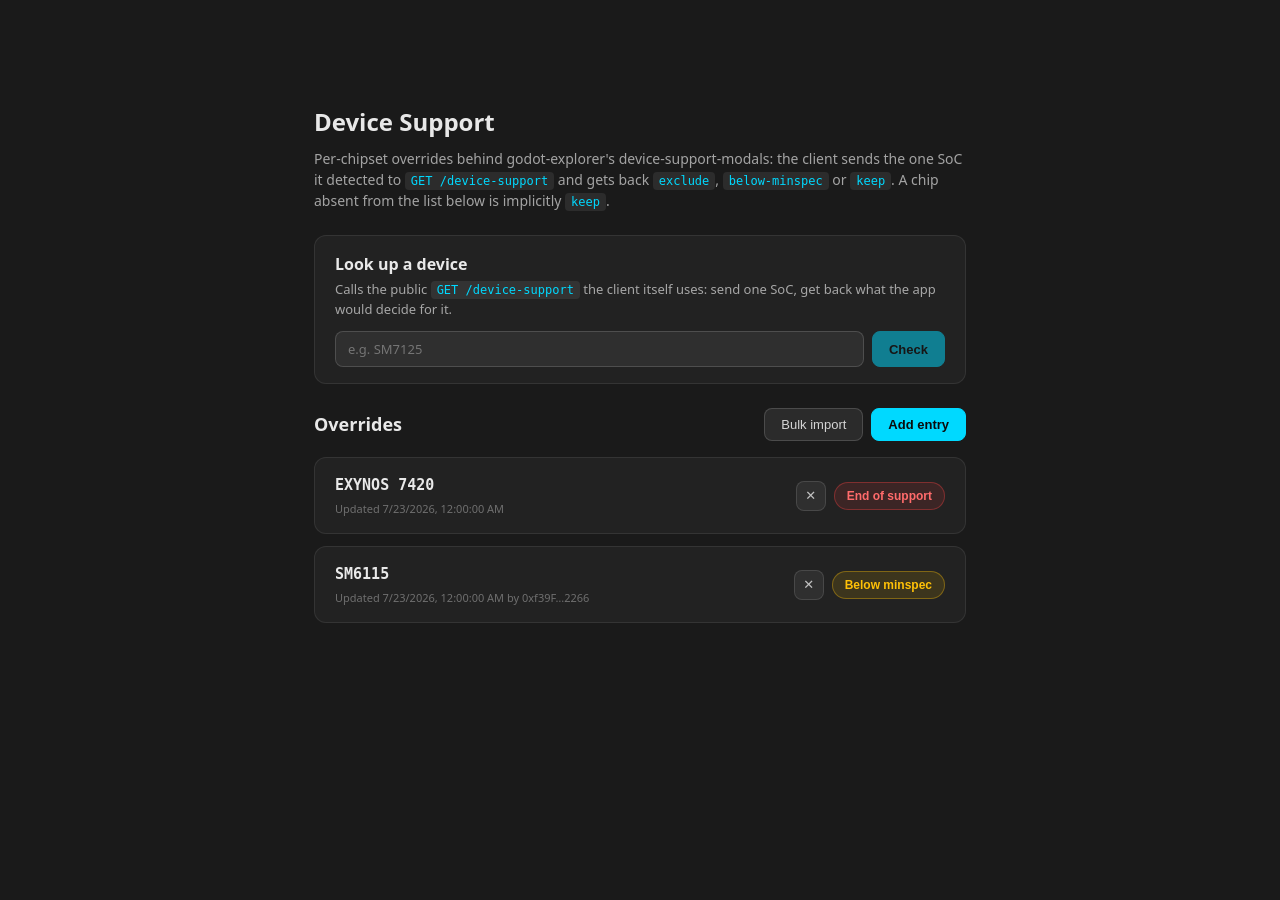
Test: DeviceSupportPage › keeps the dialog open and shows the raw error message for a non-auth save failure
The image size is (1280, 900).
Click the button with aria-label "Change decision for EXYNOS 7420" at (889, 496), box [834,482,945,510]
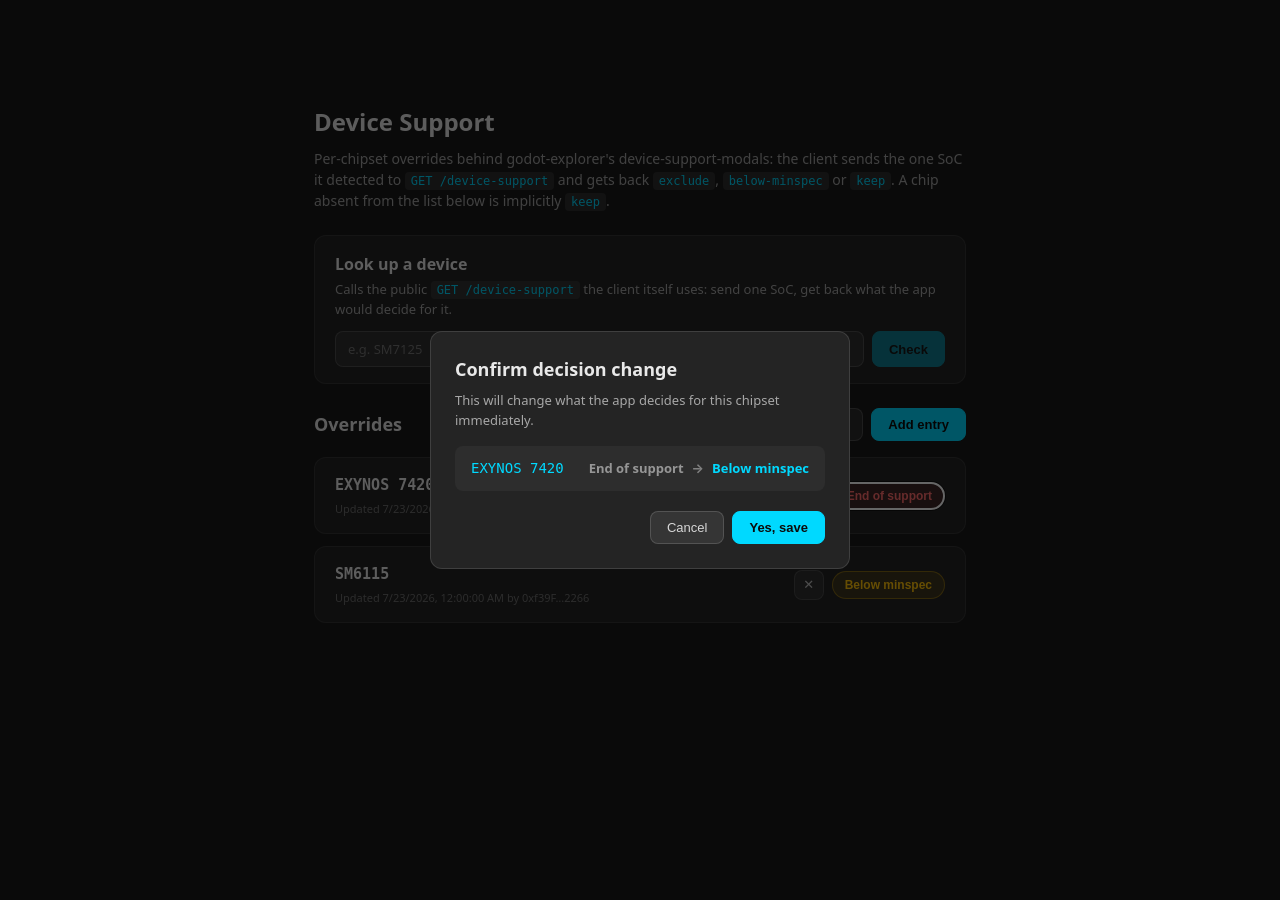
Click the button "Yes, save" at (779, 528), box [732,511,825,544]
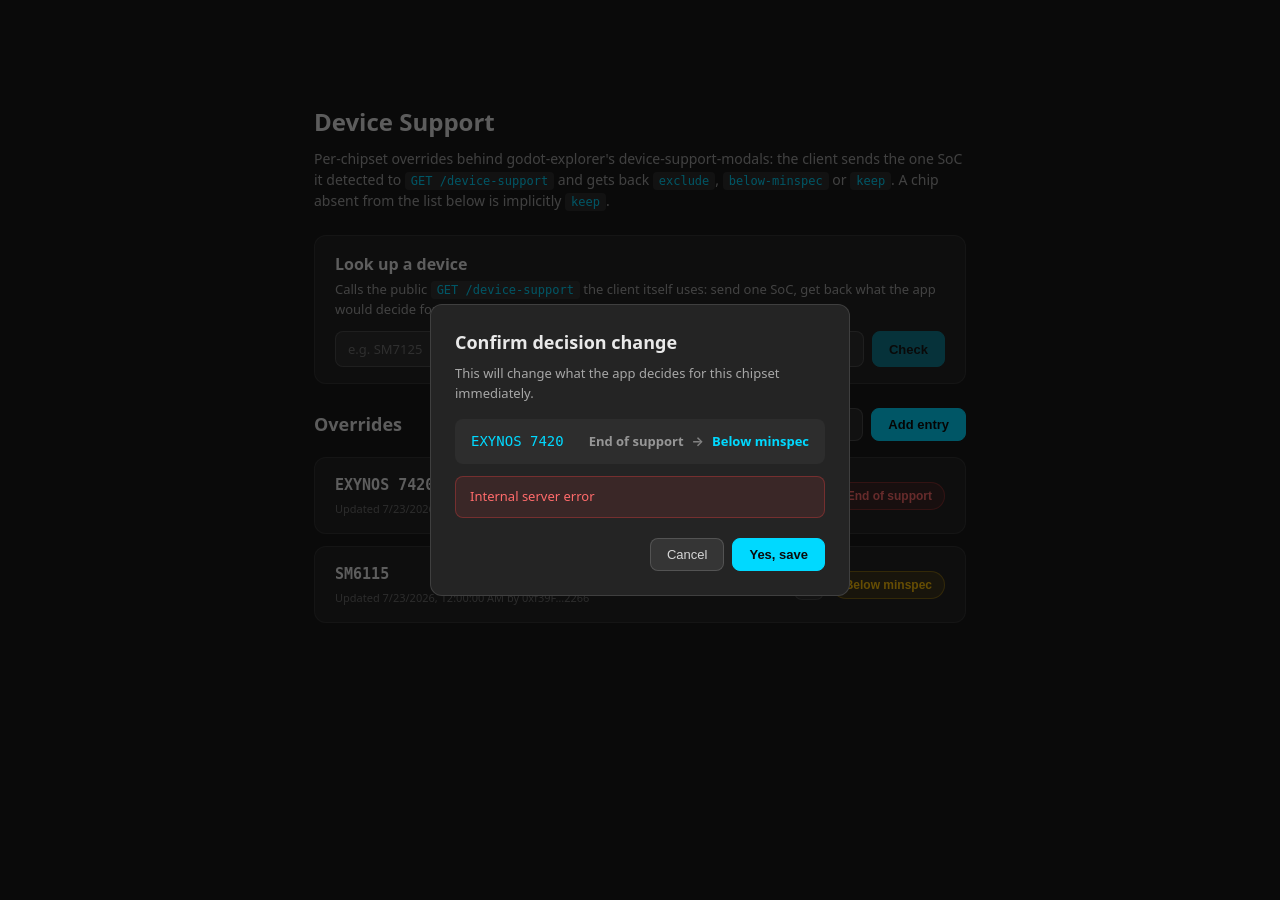
Expected: the button with aria-label "Change decision for EXYNOS 7420" reads "End of support", [834,482,945,510]
Expected: the dialog is shown, [430,304,850,596]
Expected: the text "Internal server error" is shown, [455,476,825,518]
